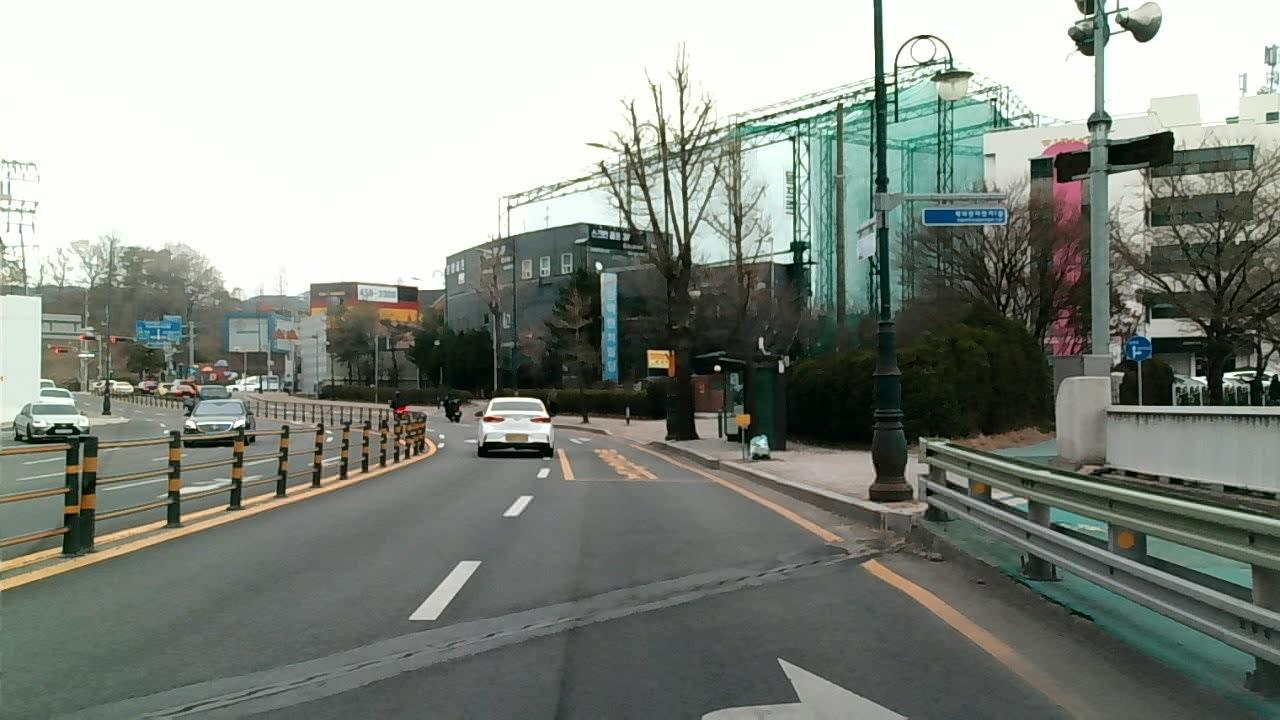banner: (187, 657, 392, 705), (409, 612, 583, 652), (644, 567, 781, 605), (789, 531, 905, 571)
